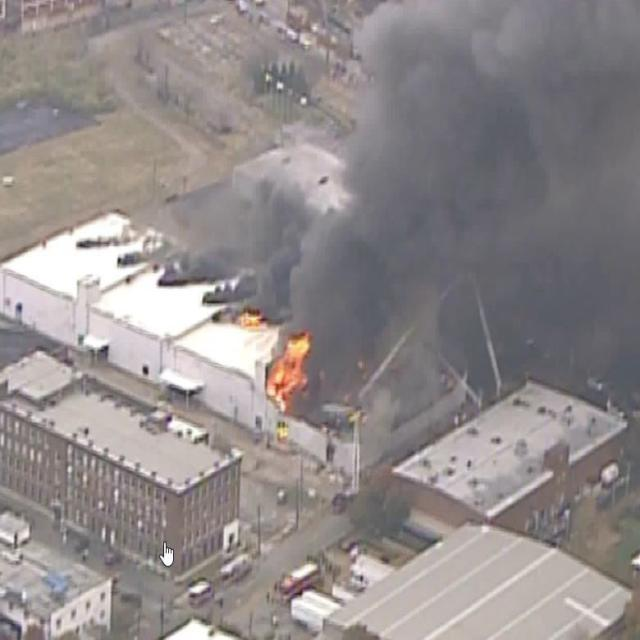Fire: (265, 323, 310, 411)
Smoke: (301, 0, 640, 435), (195, 162, 299, 308)
